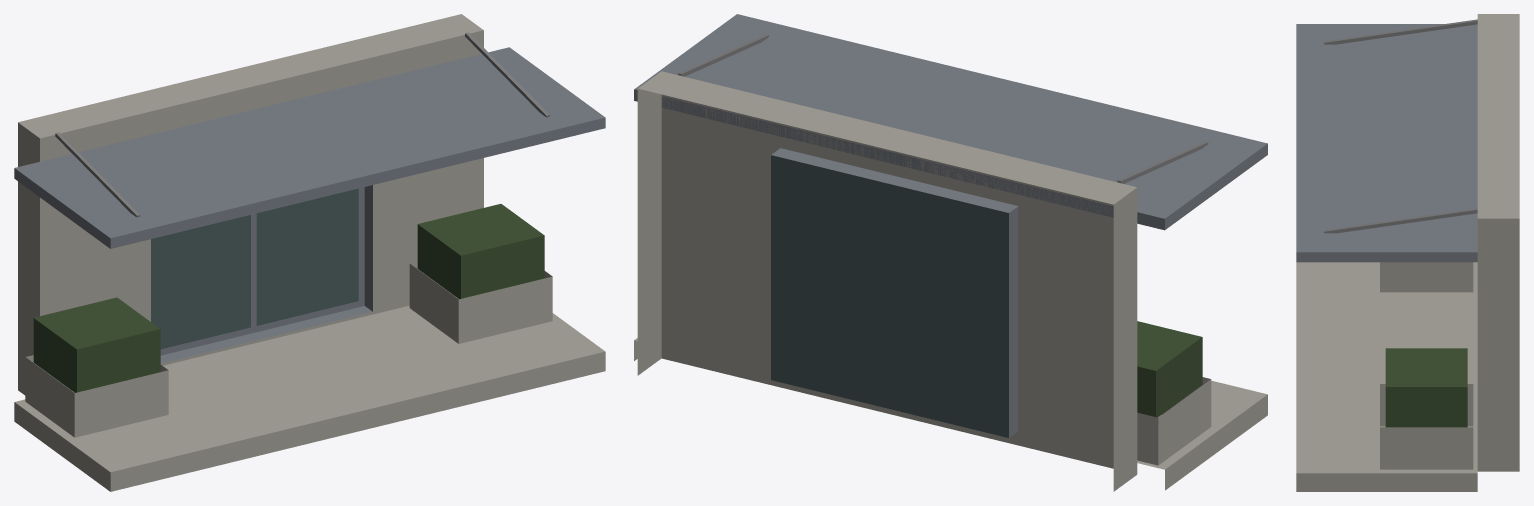
Rendered from entrance.fbx.
3 renders of one model, left to right at view 1: azimuth 30°, elevation 25°; view 2: azimuth 150°, elevation 25°; view 3: azimuth 270°, elevation 25°, orthographic. The views are drawn at different scales.
Visible parts, largest first — view 1: a2007/0/entrance; view 2: a2007/0/entrance; view 3: a2007/0/entrance.
Part boxes in pixels (<box>): a2007/0/entrance: <box>14,14,605,491</box>; a2007/0/entrance: <box>634,14,1267,491</box>; a2007/0/entrance: <box>1296,14,1519,491</box>.
Bounding box in the file's own units: 5.8 × 3.12 × 2.4.
